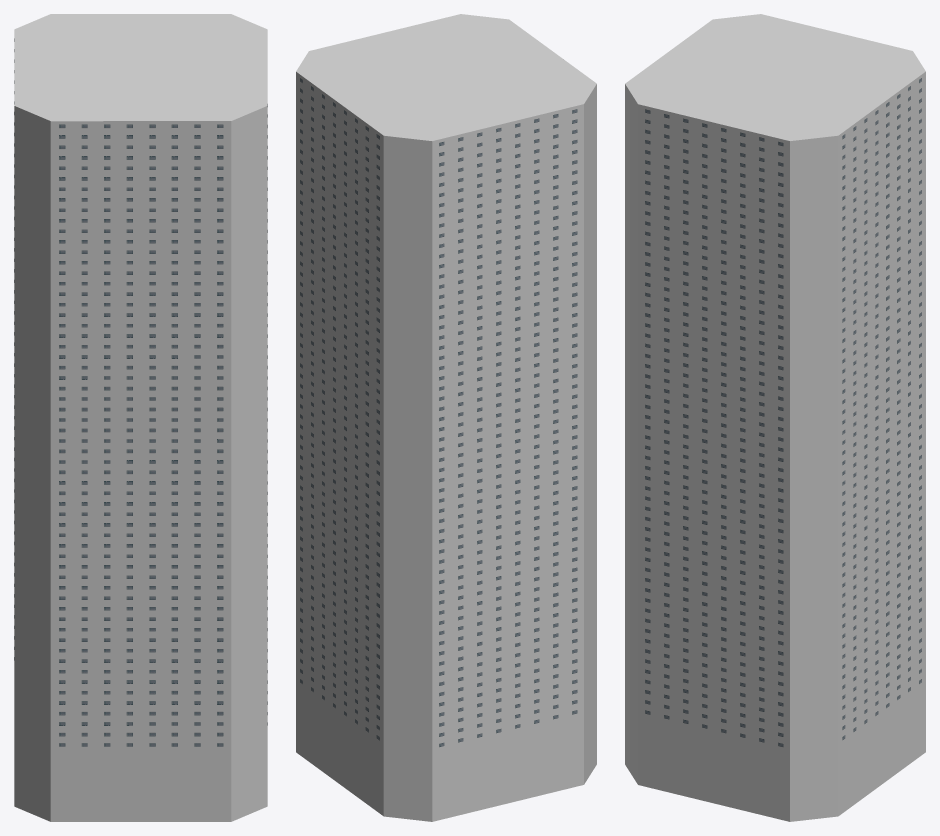
File: 101BuildingFixed4.fbx
The picture shows the model from 3 angles, left to right: view 1: azimuth 30°, elevation 25°; view 2: azimuth 150°, elevation 25°; view 3: azimuth 270°, elevation 25°; orthographic projection. The views are drawn at different scales.
Parts seen in each view (by area): view 1: Cube.074, Cube.078, Cube.077, Cube.079, Cube.080, Cube.076, Cube.075, Cube.047, Cube.081; view 2: Cube.074, Cube.075, Cube.078, Cube.079, Cube.080, Cube.076, Cube.077, Cube.047, Cube.081; view 3: Cube.074, Cube.078, Cube.075, Cube.080, Cube.077, Cube.079, Cube.076, Cube.047, Cube.081.
Boxes of the visible parts, x1,y1,x2,y2 form: Cube.074: [14, 14, 267, 204]; Cube.078: [14, 374, 267, 540]; Cube.077: [14, 290, 267, 456]; Cube.079: [14, 458, 267, 624]; Cube.080: [14, 542, 267, 708]; Cube.076: [14, 206, 267, 372]; Cube.075: [14, 122, 267, 288]; Cube.047: [14, 738, 267, 821]; Cube.081: [14, 626, 267, 753]; Cube.074: [296, 14, 596, 222]; Cube.075: [296, 153, 596, 303]; Cube.078: [296, 398, 596, 548]; Cube.079: [296, 479, 596, 629]; Cube.080: [296, 560, 596, 711]; Cube.076: [296, 235, 596, 385]; Cube.077: [296, 316, 596, 466]; Cube.047: [296, 686, 596, 821]; Cube.081: [296, 642, 596, 755]; Cube.074: [625, 14, 925, 222]; Cube.078: [625, 397, 925, 548]; Cube.075: [625, 153, 925, 303]; Cube.080: [625, 560, 925, 711]; Cube.077: [625, 316, 925, 466]; Cube.079: [625, 479, 925, 629]; Cube.076: [625, 234, 925, 385]; Cube.047: [625, 686, 925, 821]; Cube.081: [625, 642, 925, 755].
Bounding box in the file's own units: 84.83 × 212 × 84.83.
